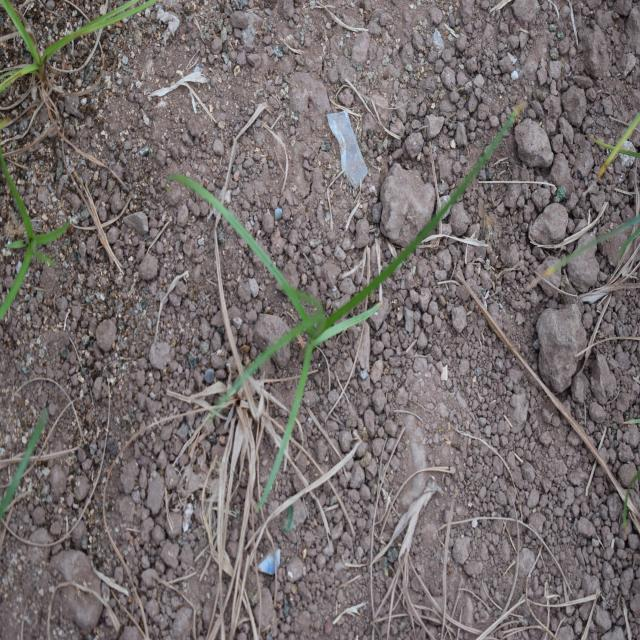sedge: (165, 102, 519, 506)
